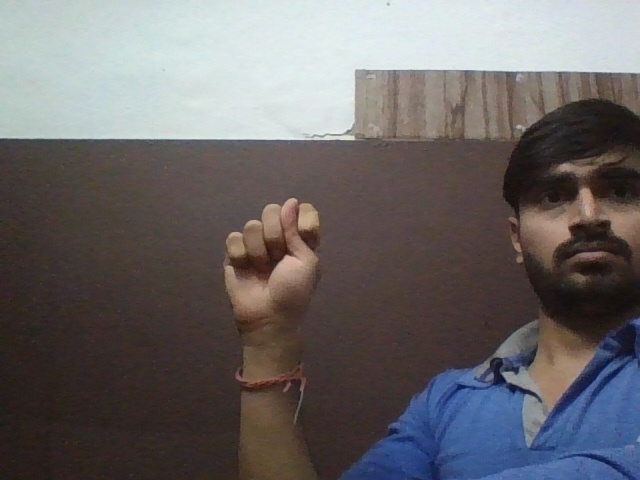T: (207, 197, 335, 333)
